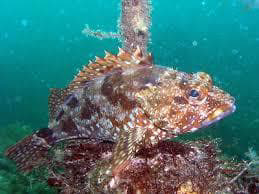kasago: (3, 49, 239, 172)
